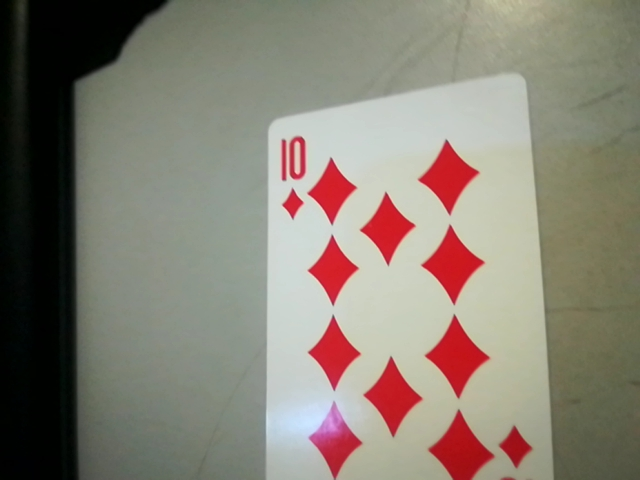fk 10: (265, 126, 318, 225)
